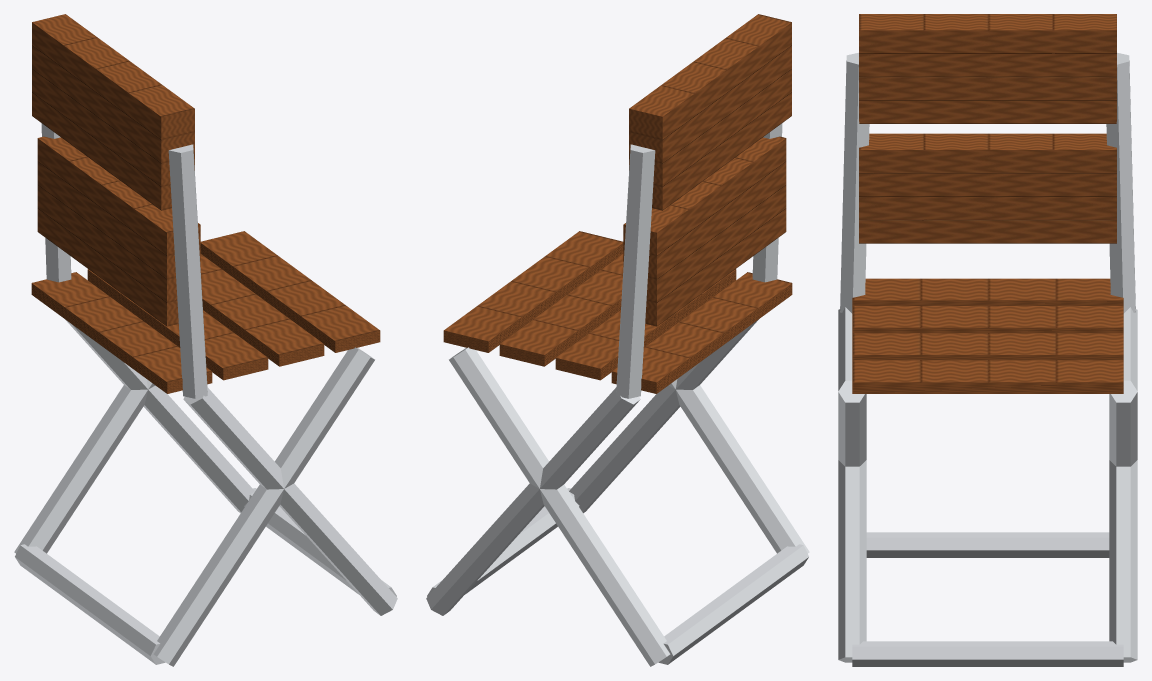
The model's file is folding_chair.glb.
The picture shows the model from 3 angles, left to right: view 1: azimuth 30°, elevation 25°; view 2: azimuth 150°, elevation 25°; view 3: azimuth 270°, elevation 25°; orthographic projection.
Parts seen in each view (by area): view 1: folding-chair-timber, folding-chair-steel; view 2: folding-chair-timber, folding-chair-steel; view 3: folding-chair-timber, folding-chair-steel.
Boxes of the visible parts, x1,y1,x2,y2 form: folding-chair-timber: [31, 14, 380, 393]; folding-chair-steel: [14, 123, 397, 666]; folding-chair-timber: [443, 14, 792, 393]; folding-chair-steel: [426, 123, 809, 666]; folding-chair-timber: [852, 14, 1123, 393]; folding-chair-steel: [838, 52, 1137, 666].
Size of the model in its own units: 0.4401 by 0.9321 by 0.464.
Materials: 2 (1 with a texture image).
